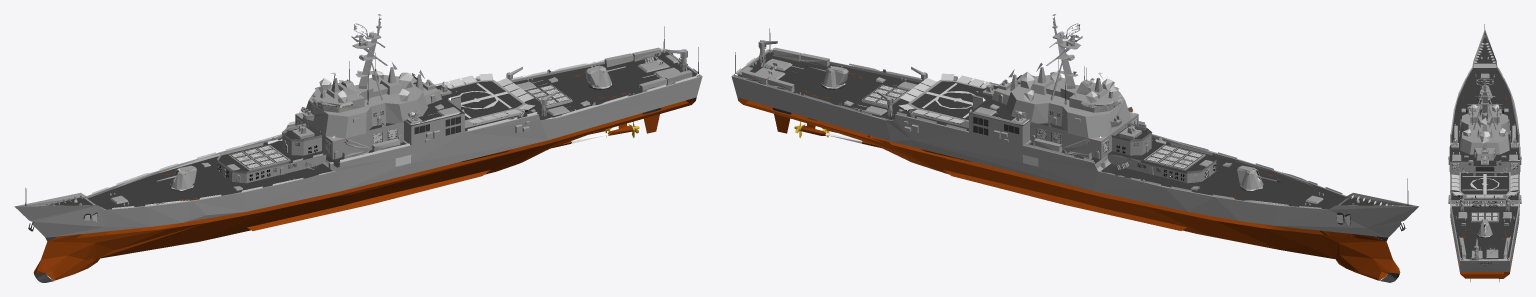
Rendered from hawaii_lod.glb.
The picture shows the model from 3 angles, left to right: view 1: azimuth 30°, elevation 25°; view 2: azimuth 150°, elevation 25°; view 3: azimuth 270°, elevation 25°; orthographic projection. The views are drawn at different scales.
Visible parts, largest first — view 1: Cube_Hull_0, Circle_HullRed.001_0, Cube_Hull_Dark_0, AN/SPY_1_Hull_Light_0, LifeRaft.001_Hull.005_0; view 2: Cube_Hull_0, Circle_HullRed.001_0, Cube_Hull_Dark_0, AN/SPY_1_Hull_Light_0, LifeRaft.001_Hull.005_0; view 3: Cube_Hull_0, Cube_Hull_Dark_0, AN/SPY_1_Hull_Light_0, Circle_HullRed.001_0, LifeRaft.001_Hull.005_0, Cube.009__0, RIBB.002_HullBlack.001_0, LifeRaft.001_HullDark.002_0.
Boxes of the visible parts, <box> form: Cube_Hull_0: <box>14,14,702,237</box>; Circle_HullRed.001_0: <box>34,54,695,280</box>; Cube_Hull_Dark_0: <box>25,26,698,282</box>; AN/SPY_1_Hull_Light_0: <box>84,31,655,222</box>; LifeRaft.001_Hull.005_0: <box>92,47,699,209</box>; Cube_Hull_0: <box>731,14,1418,237</box>; Circle_HullRed.001_0: <box>738,60,1399,280</box>; Cube_Hull_Dark_0: <box>735,28,1408,282</box>; AN/SPY_1_Hull_Light_0: <box>791,31,1350,225</box>; LifeRaft.001_Hull.005_0: <box>735,47,1342,209</box>; Cube_Hull_0: <box>1448,29,1521,271</box>; Cube_Hull_Dark_0: <box>1449,24,1520,265</box>; AN/SPY_1_Hull_Light_0: <box>1451,88,1518,250</box>; Circle_HullRed.001_0: <box>1451,93,1518,281</box>; LifeRaft.001_Hull.005_0: <box>1450,68,1519,260</box>; Cube.009__0: <box>1474,43,1495,115</box>; RIBB.002_HullBlack.001_0: <box>1472,201,1497,207</box>; LifeRaft.001_HullDark.002_0: <box>1456,110,1513,205</box>.
Size of the model in its own units: 4.99 by 1.31 by 0.7079.
